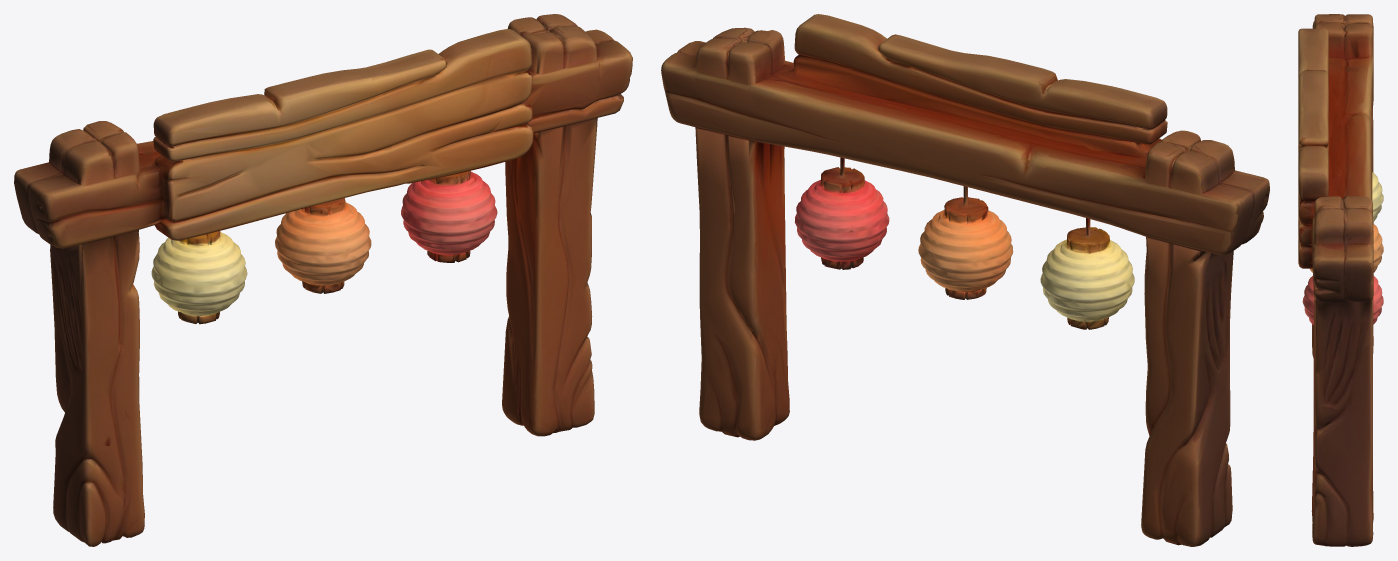
The model's file is gerbang-pasar.glb.
3 renders of one model, left to right at view 1: azimuth 30°, elevation 25°; view 2: azimuth 150°, elevation 25°; view 3: azimuth 270°, elevation 25°, orthographic. The views are drawn at different scales.
Parts seen in each view (by area): view 1: node_0; view 2: node_0; view 3: node_0.
Part boxes in pixels (x1=…): node_0: x1=14, y1=14, x2=632, y2=546; node_0: x1=661, y1=14, x2=1269, y2=546; node_0: x1=1298, y1=14, x2=1383, y2=546.
Size of the model in its own units: 1.07 by 0.7195 by 0.1595.
1 material, 1 textured.
